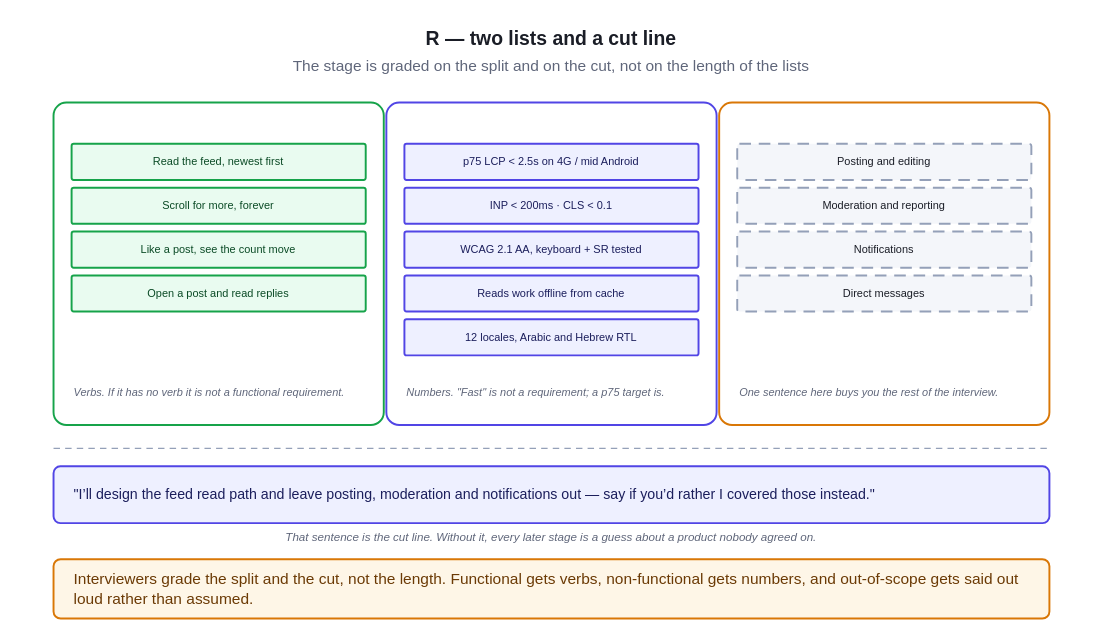
Image size: 1102x641. Some labels were removed from this diagram. The shapes that lost their labels are listed below. From the top down, each one's box as (x1, y1, x2, y2) in pixels, then its label:
(52, 101, 384, 425): Functional — what a user can DO
(385, 101, 717, 425): Non-functional — what it must BE
(718, 101, 1050, 425): Out of scope — say it out loud
